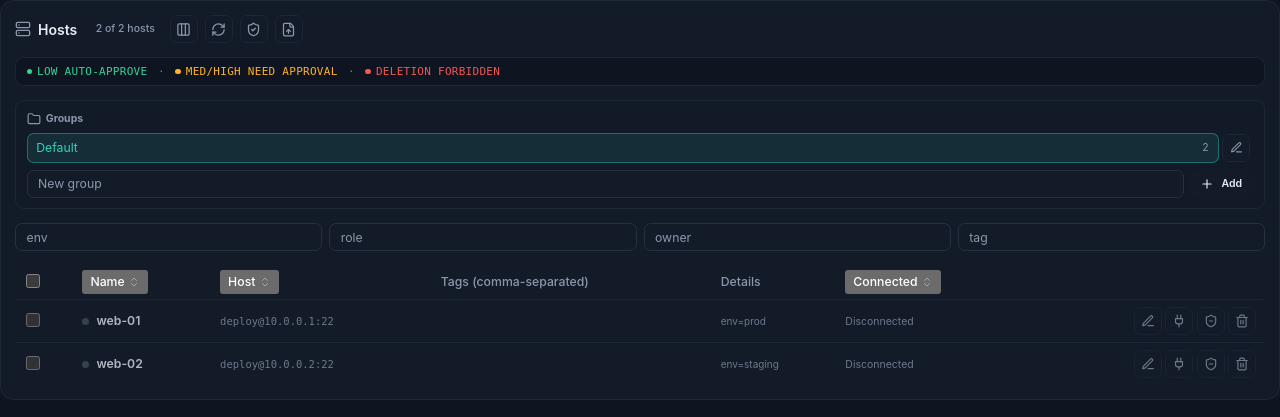
Test: HostList › filters hosts by env
Type "prod" into the field with placeholder "env". click: (169, 237)
box: [15, 223, 322, 251]
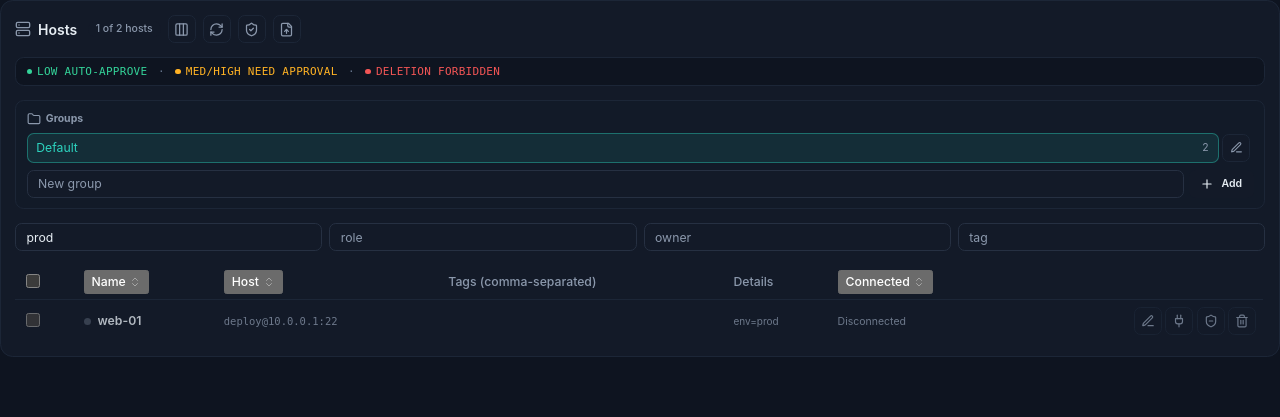
Expected: the text "web-01" is shown, [98, 312, 142, 330]
Expected: the text "web-02" is gone
Expected: the text "1 of 2 hosts" is shown, [88, 21, 161, 37]
